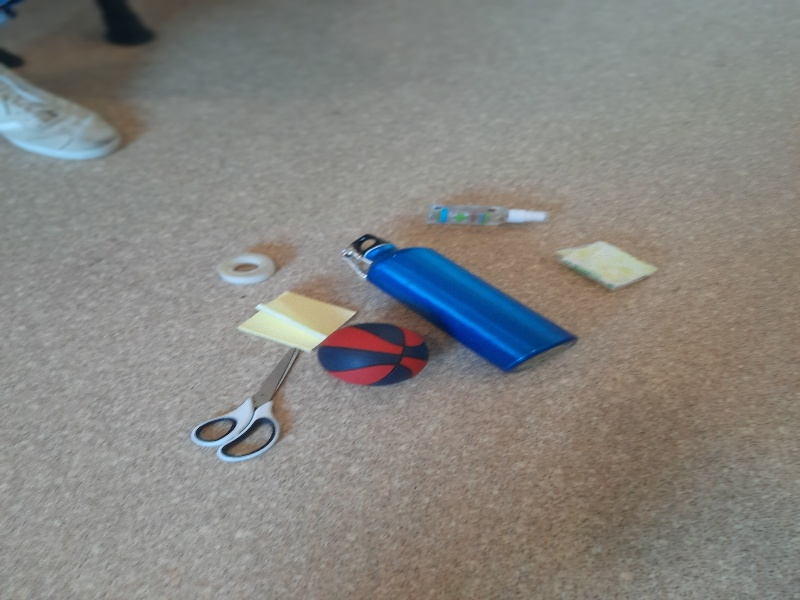ballon: (316, 323, 429, 385)
ciseaux: (190, 347, 302, 464)
gel: (425, 207, 552, 227)
mouchoirs: (554, 241, 660, 289)
post-it: (236, 291, 359, 354)
scotch: (217, 253, 274, 284)
